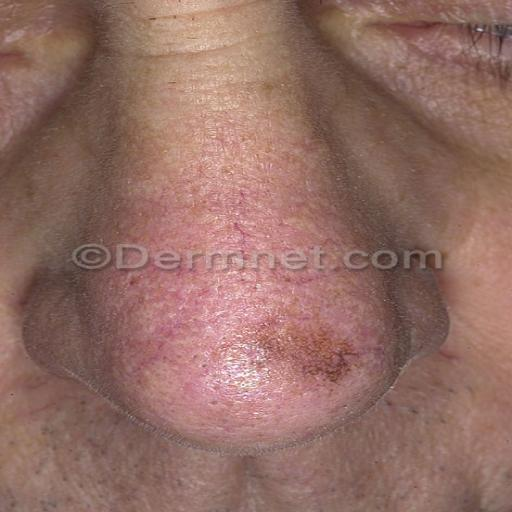Skin_Lesion: (235, 320, 362, 387), (121, 270, 146, 294)
